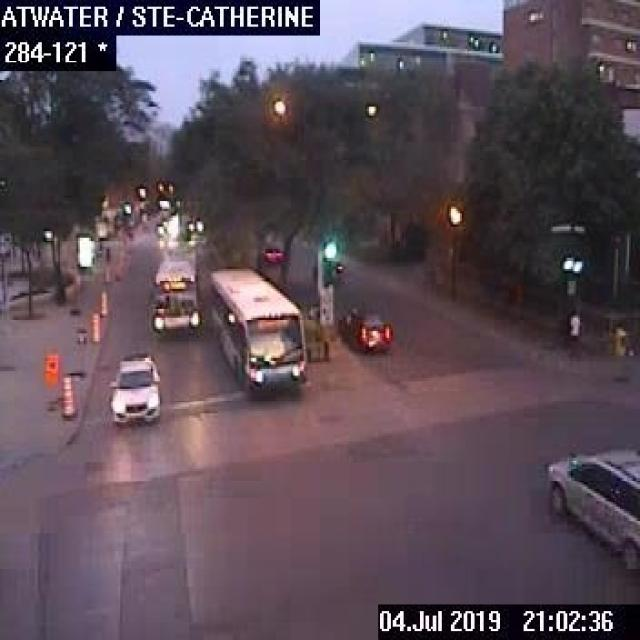bus: (208, 267, 306, 393), (151, 248, 199, 328)
construction: (41, 353, 56, 408), (56, 371, 73, 418), (88, 310, 99, 340), (98, 289, 106, 314)
pedestrian: (565, 304, 580, 354)
vehicle: (547, 446, 638, 571), (105, 354, 162, 426), (334, 304, 392, 354), (260, 245, 284, 262), (185, 216, 204, 231)
